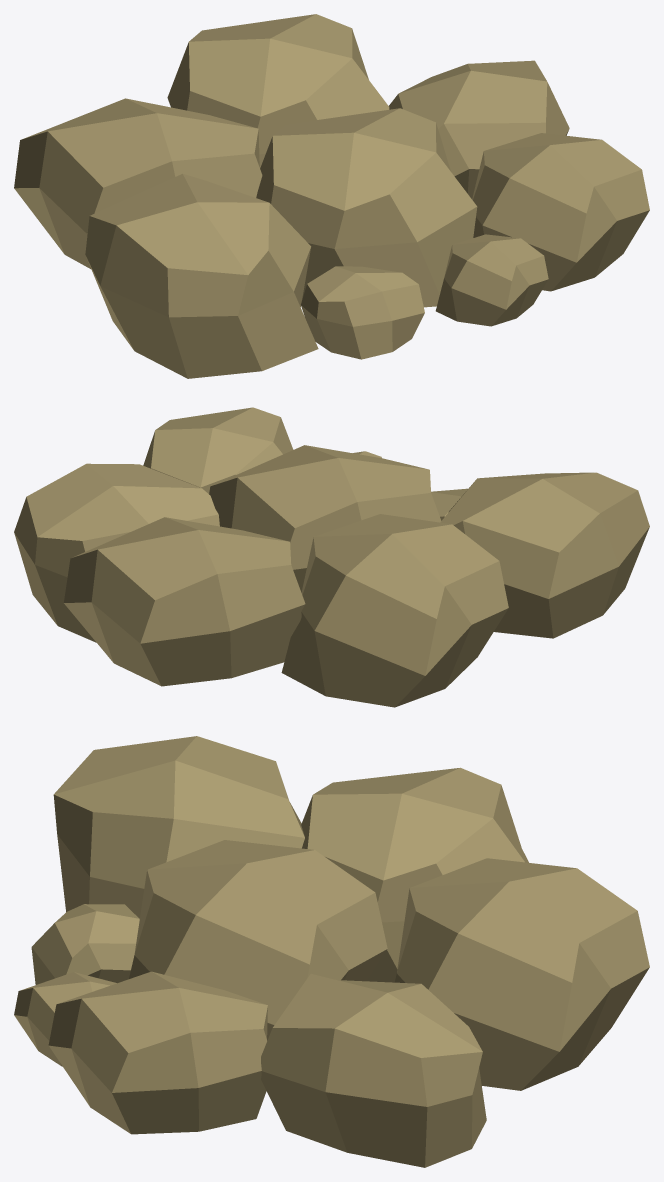
Rendered from desert_stone_2.fbx.
3 views of the same model, one above another, from view 1: azimuth 30°, elevation 25°; view 2: azimuth 150°, elevation 25°; view 3: azimuth 270°, elevation 25° (orthographic). The views are drawn at different scales.
Parts seen in each view (by area): view 1: Cube.007; view 2: Cube.007; view 3: Cube.007.
Part boxes in pixels (x1,y1,x2,y2): Cube.007: (14, 14, 649, 378); Cube.007: (14, 407, 649, 707); Cube.007: (14, 736, 649, 1167).
Bounding box in the file's own units: 83.44 × 23.38 × 75.12.
